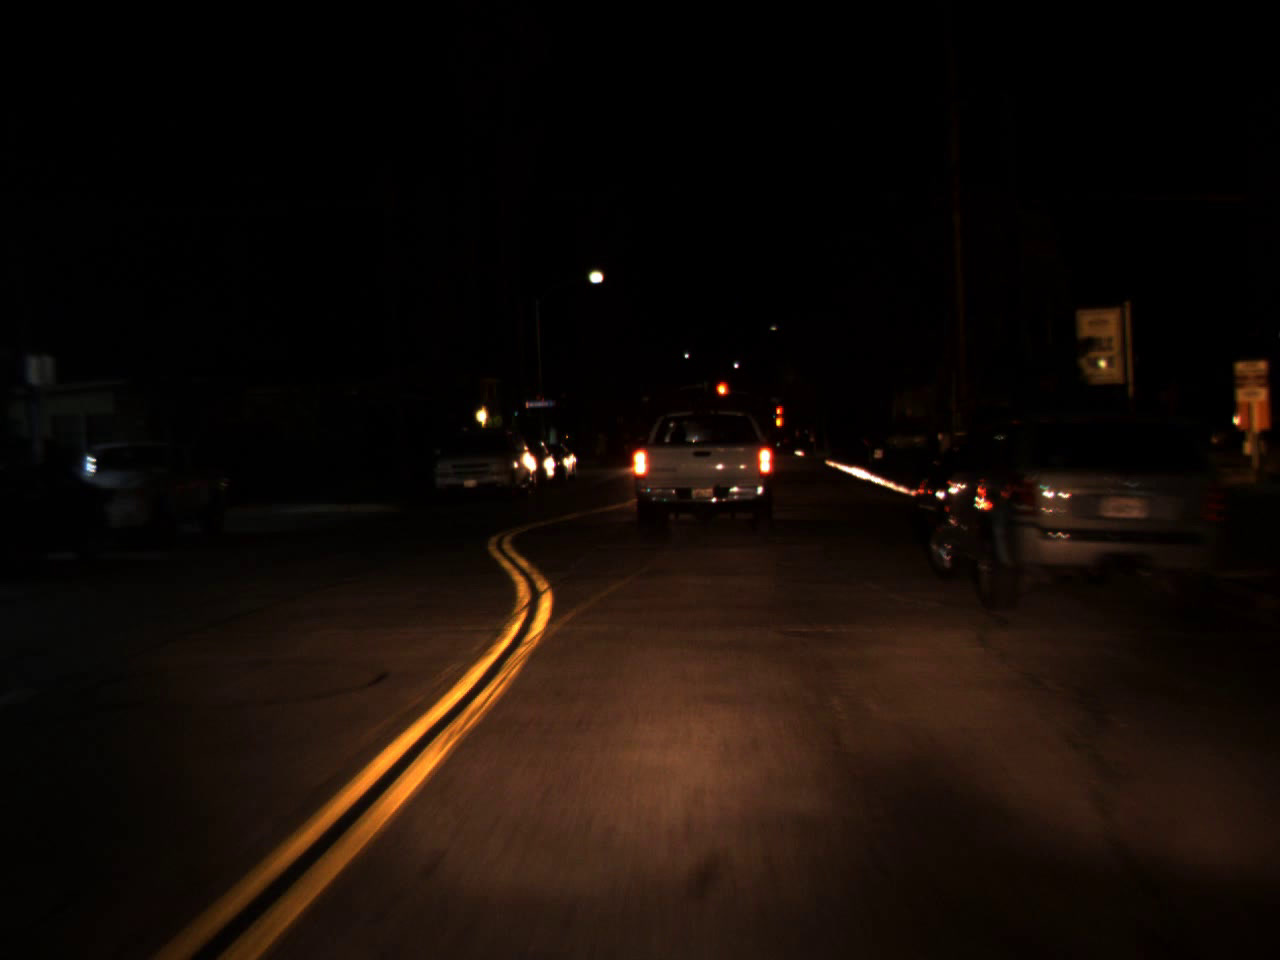stop: (714, 380, 730, 409), (774, 406, 783, 422)
